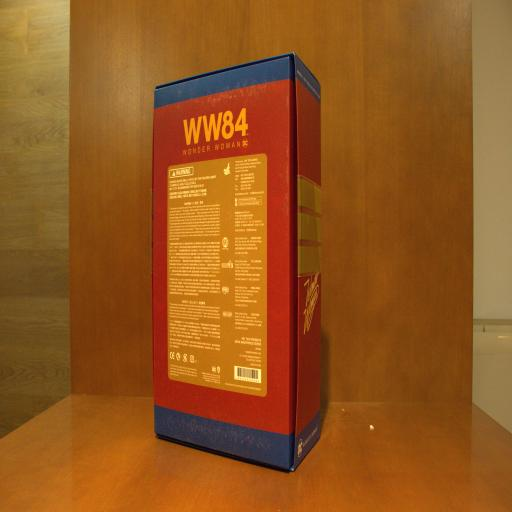WonderWoman: (150, 52, 323, 473)
